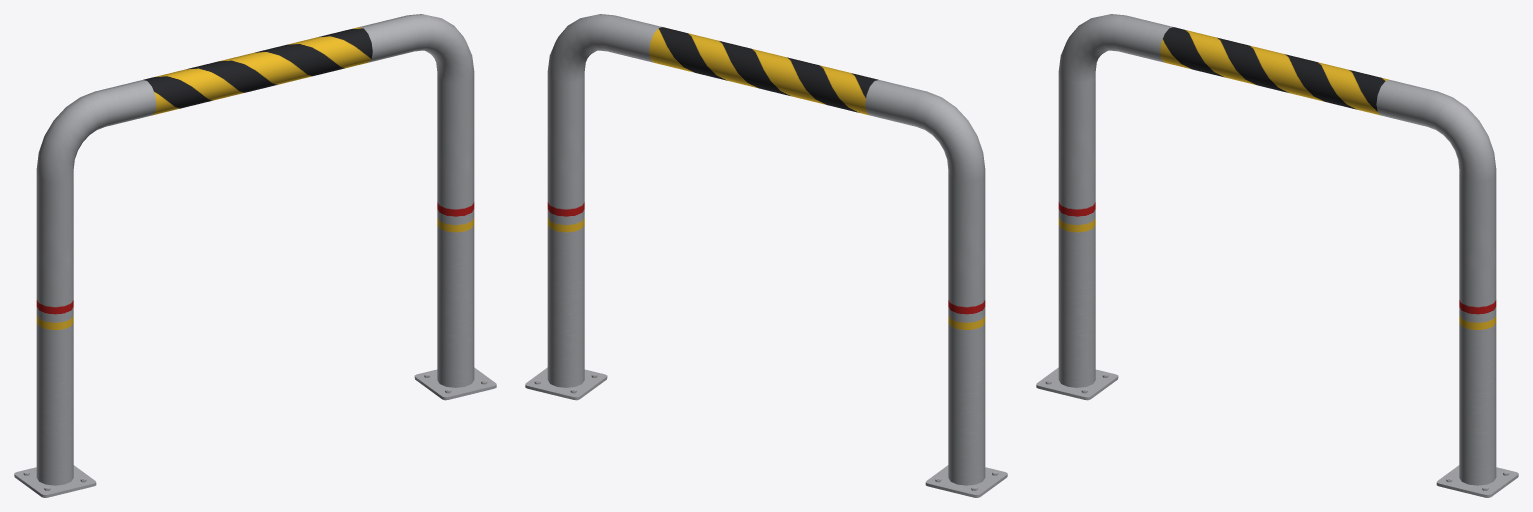
The model's file is SM05_Safety_Bollard_01_U_02.fbx.
The picture shows the model from 3 angles, left to right: view 1: azimuth 30°, elevation 25°; view 2: azimuth 150°, elevation 25°; view 3: azimuth 330°, elevation 25°; orthographic projection.
Visible parts, largest first — view 1: SM05_Safety_Bollard_01_U_02; view 2: SM05_Safety_Bollard_01_U_02; view 3: SM05_Safety_Bollard_01_U_02.
Boxes of the visible parts, box(x1,y1,x2,y2) form: SM05_Safety_Bollard_01_U_02: box(14, 14, 496, 497); SM05_Safety_Bollard_01_U_02: box(525, 14, 1007, 497); SM05_Safety_Bollard_01_U_02: box(1036, 14, 1518, 497).
Bounding box in the file's own units: 1.26 × 1 × 0.15.
